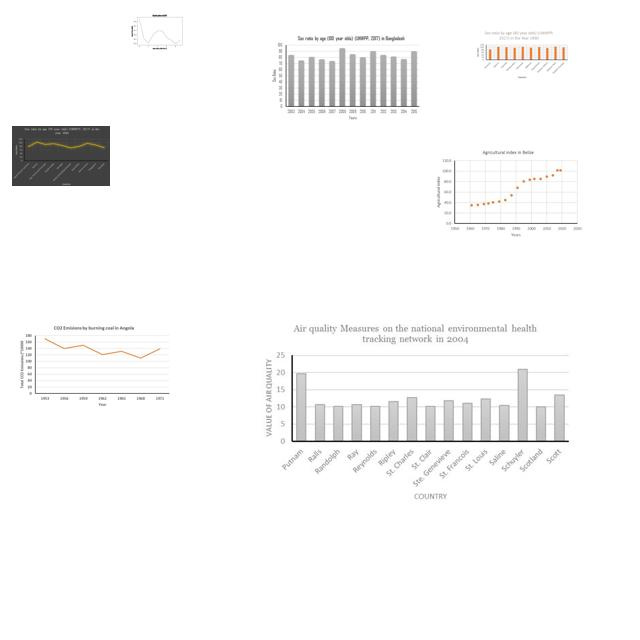Graph: (256, 319, 577, 502), (432, 148, 584, 238), (269, 34, 422, 121), (19, 324, 172, 409), (12, 126, 110, 186), (475, 30, 569, 80), (130, 9, 188, 53)
